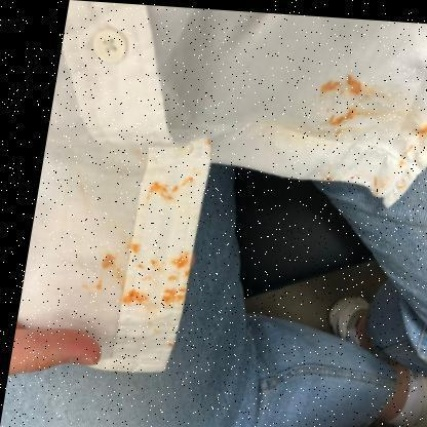kimchi: (121, 239, 185, 311), (146, 173, 196, 199), (318, 74, 368, 98), (331, 104, 368, 128), (399, 143, 421, 167), (98, 251, 119, 272), (86, 276, 107, 294), (328, 124, 345, 142), (372, 173, 388, 189), (416, 127, 427, 146), (396, 182, 410, 194), (203, 139, 216, 150), (324, 173, 338, 182), (346, 173, 356, 182)
